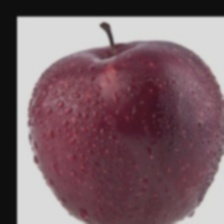apple: (45, 26, 213, 173)
